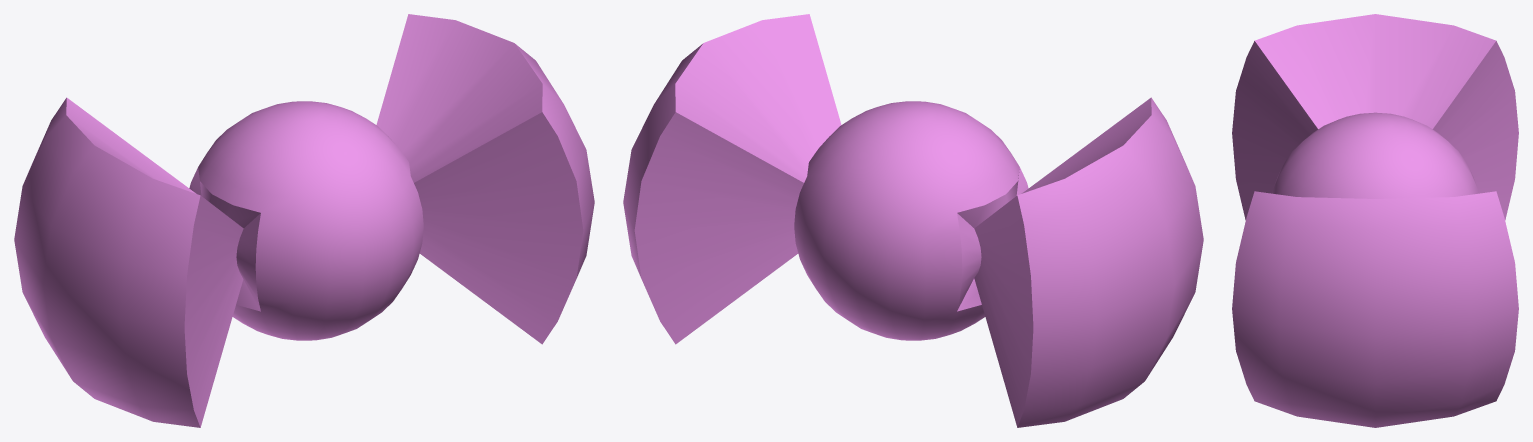
Rendered from SM_Candy.fbx.
3 renders of one model, left to right at view 1: azimuth 30°, elevation 25°; view 2: azimuth 150°, elevation 25°; view 3: azimuth 270°, elevation 25°, orthographic. The views are drawn at different scales.
Parts seen in each view (by area): view 1: SM_Candy; view 2: SM_Candy; view 3: SM_Candy.
Boxes of the visible parts, x1=… form: SM_Candy: x1=14, y1=14, x2=594, y2=427; SM_Candy: x1=623, y1=14, x2=1203, y2=427; SM_Candy: x1=1232, y1=14, x2=1518, y2=427.
Bounding box in the file's own units: 82.5 × 38.24 × 43.43.
